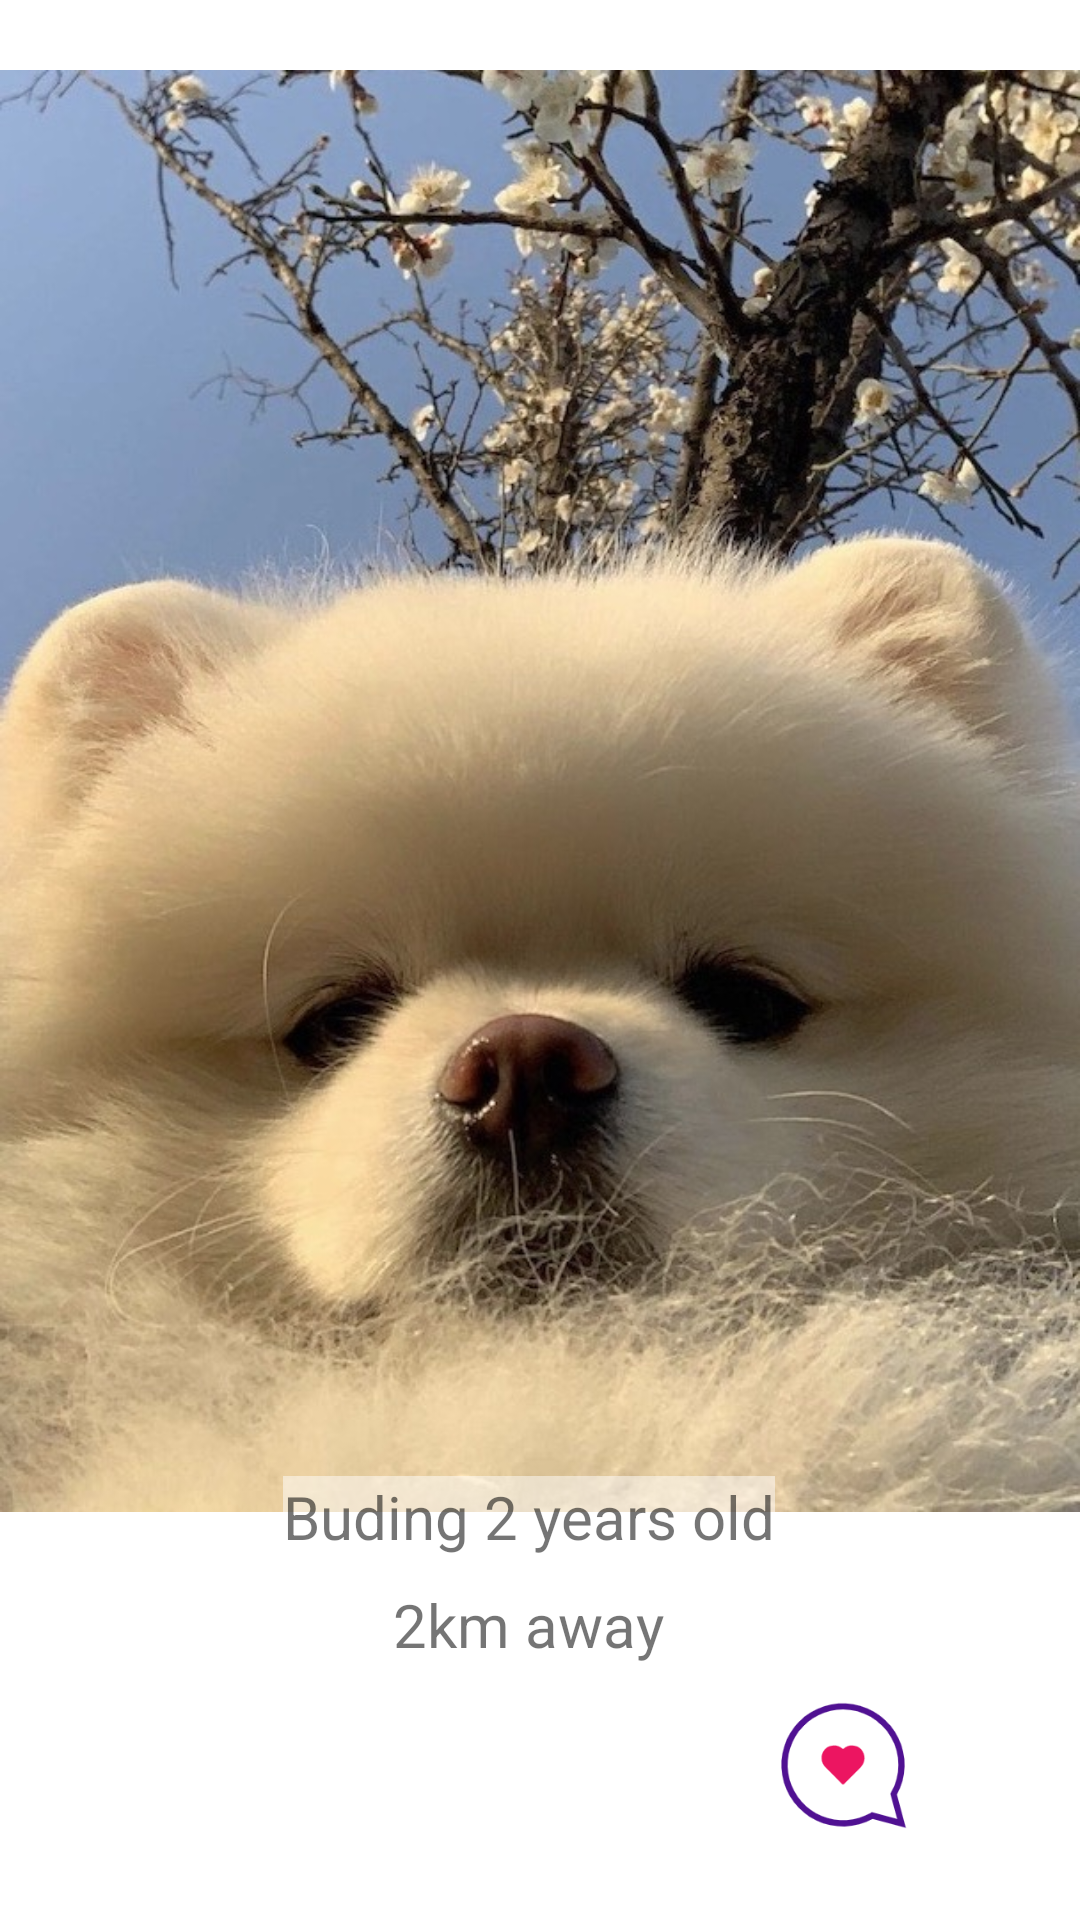

Screen size 1080 x 1920. Icon name, then its center in pixels as (x,y):
like: (843,1765)
